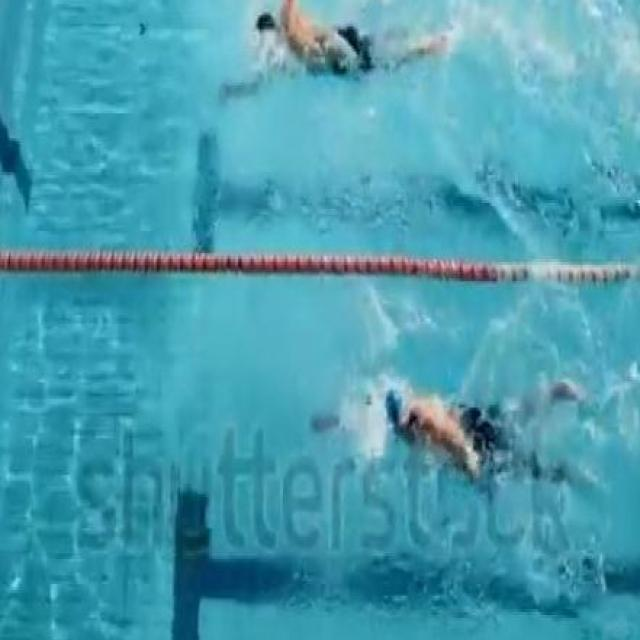Swimming: (320, 374, 599, 486), (216, 2, 457, 100)
